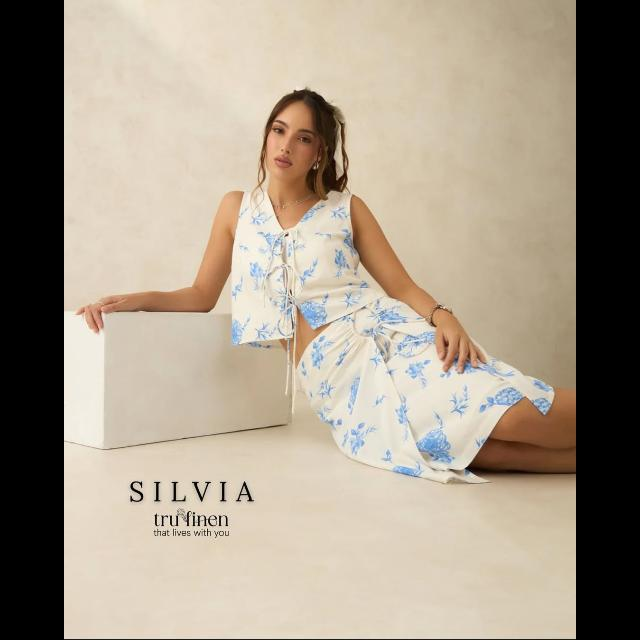bottom: (298, 333, 516, 467)
top: (218, 191, 359, 325)
